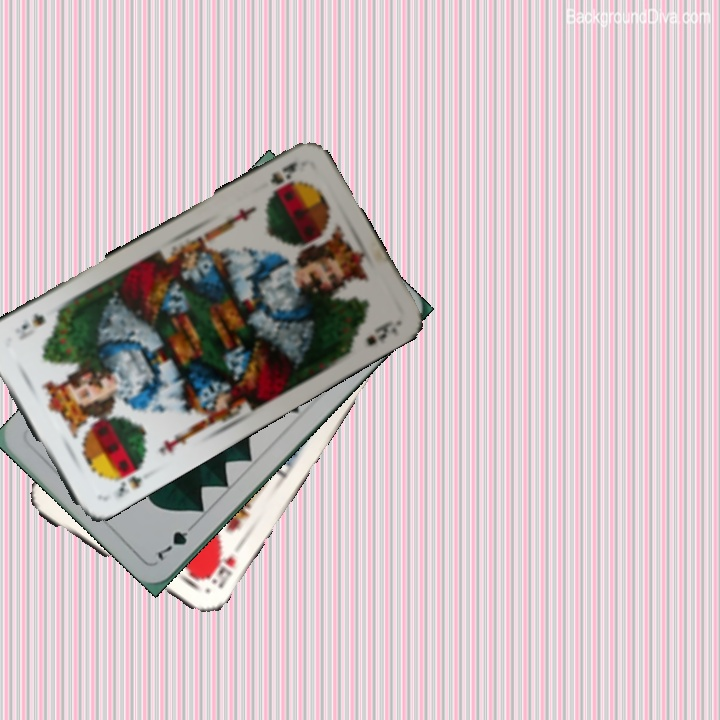G7: (152, 517, 200, 564)
HK: (199, 547, 239, 591)
SK: (105, 459, 145, 500), (266, 157, 300, 196)
